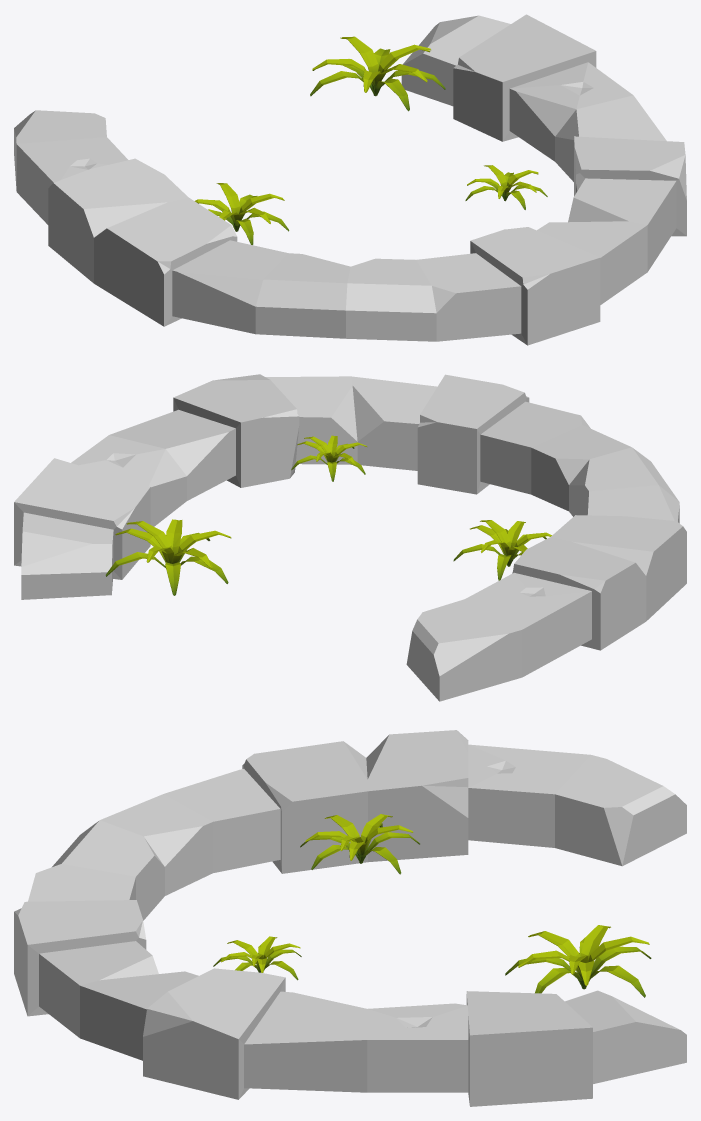
The model's file is FlowerSpawner.fbx.
3 renders of one model, top to bottom at view 1: azimuth 30°, elevation 25°; view 2: azimuth 150°, elevation 25°; view 3: azimuth 270°, elevation 25°, orthographic. The views are drawn at different scales.
Parts seen in each view (by area): view 1: Cube.004, Cube.005, SpawnFlower; view 2: Cube.004, Cube.005, SpawnFlower; view 3: Cube.004, Cube.005, SpawnFlower.
Part boxes in pixels (box(x1,y1,x2,y2)): Cube.004: box(14, 15, 676, 341); Cube.005: box(48, 14, 686, 345); SpawnFlower: box(195, 36, 547, 244); Cube.004: box(21, 376, 679, 701); Cube.005: box(14, 374, 686, 650); SpawnFlower: box(105, 435, 551, 595); Cube.004: box(28, 744, 686, 1092); Cube.005: box(14, 730, 592, 1106); SpawnFlower: box(213, 814, 651, 997).
Size of the model in its own units: 1399 by 207 by 1333.
